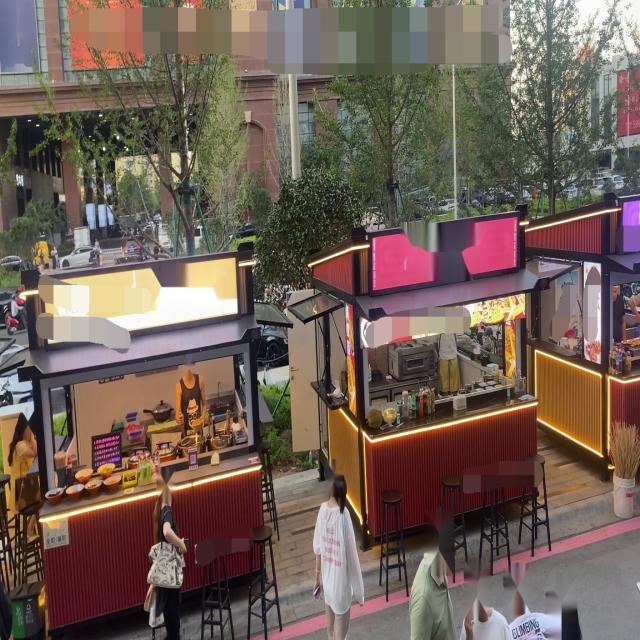fixed_stall: (36, 249, 250, 508), (359, 214, 530, 435), (608, 334, 637, 381)
sunshade: (1, 345, 31, 377), (1, 335, 16, 355)
